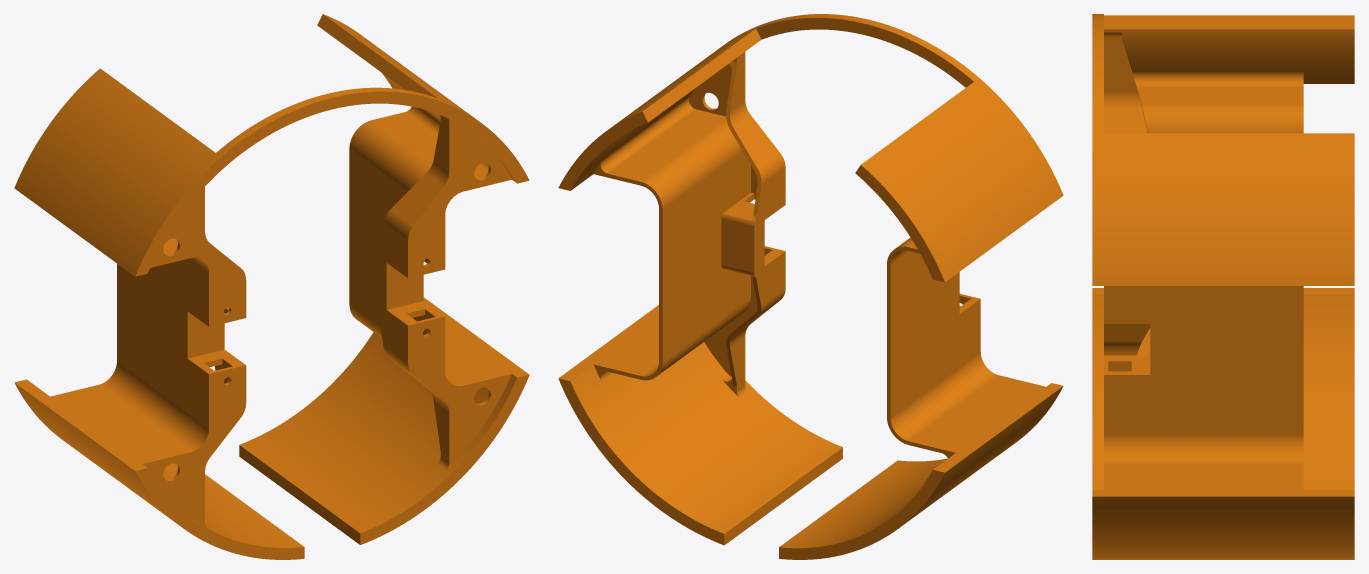
Rendered from Carcaza04.obj.
3 views of the same model, side by side, from view 1: azimuth 30°, elevation 25°; view 2: azimuth 150°, elevation 25°; view 3: azimuth 270°, elevation 25° (orthographic). The views are drawn at different scales.
Parts seen in each view (by area): view 1: Sólido1; view 2: Sólido1; view 3: Sólido1.
Part boxes in pixels (bbox=[...]): Sólido1: bbox=[14, 14, 529, 559]; Sólido1: bbox=[558, 14, 1063, 559]; Sólido1: bbox=[1092, 14, 1354, 559].
Size of the model in its own units: 106 by 117 by 56.5.
